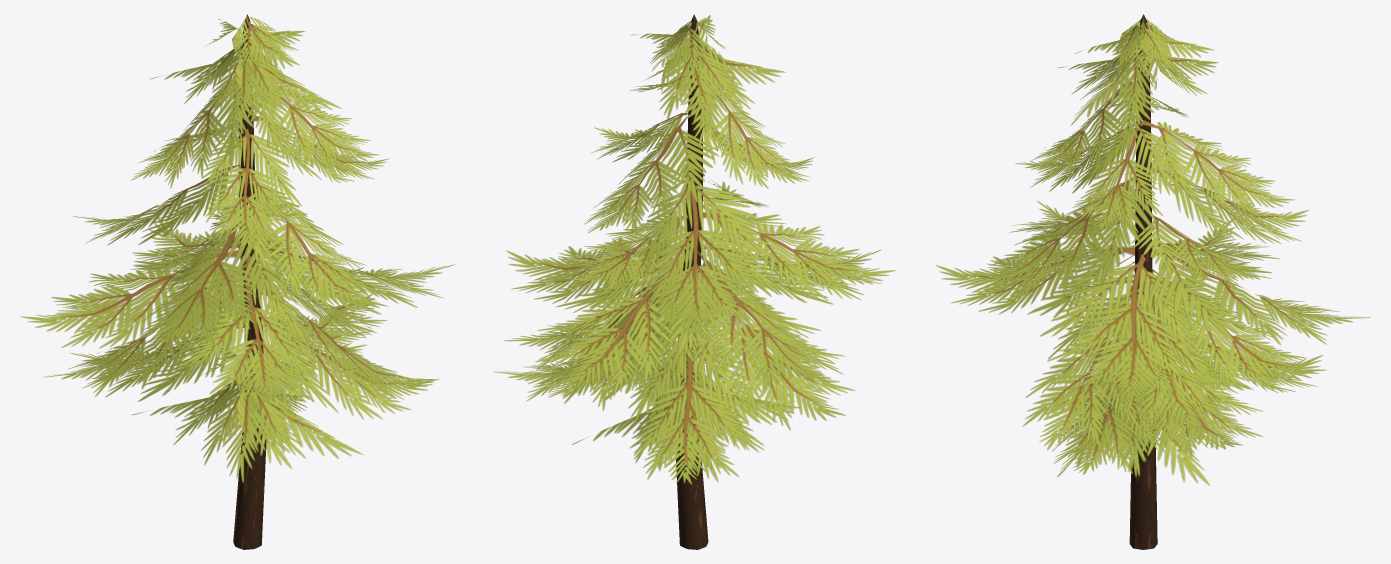
The model's file is pinetree_5.glb.
3 views of the same model, side by side, from view 1: azimuth 30°, elevation 25°; view 2: azimuth 150°, elevation 25°; view 3: azimuth 270°, elevation 25° (orthographic).
Visible parts, largest first — view 1: PineTree_5; view 2: PineTree_5; view 3: PineTree_5.
Part boxes in pixels (left/top/right/bottom): PineTree_5: left=20, top=14, right=454, bottom=549; PineTree_5: left=493, top=14, right=895, bottom=549; PineTree_5: left=936, top=14, right=1370, bottom=549.
Size of the model in its own units: 3.31 by 4.3 by 3.29.
2 materials, 2 textured.
